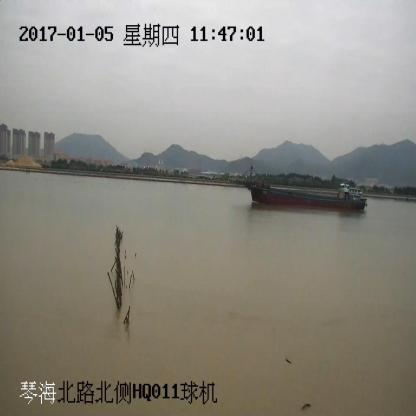Bulk Carrier: (233, 169, 367, 213)
